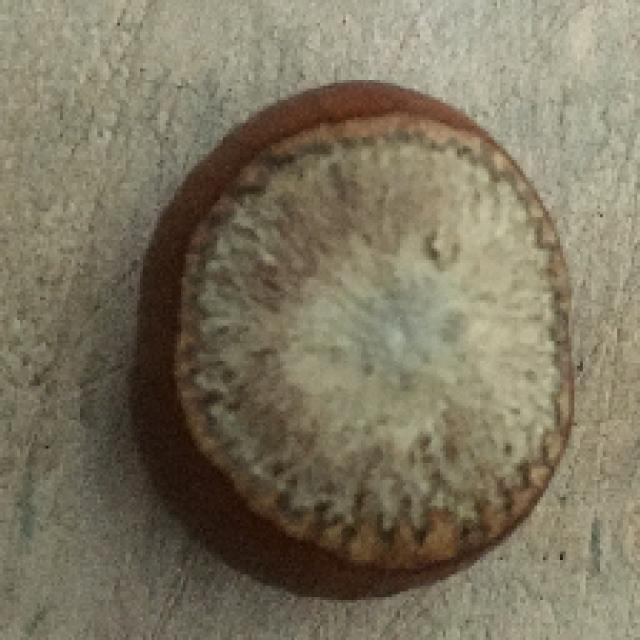qualityHazelnut: (115, 74, 582, 614)
